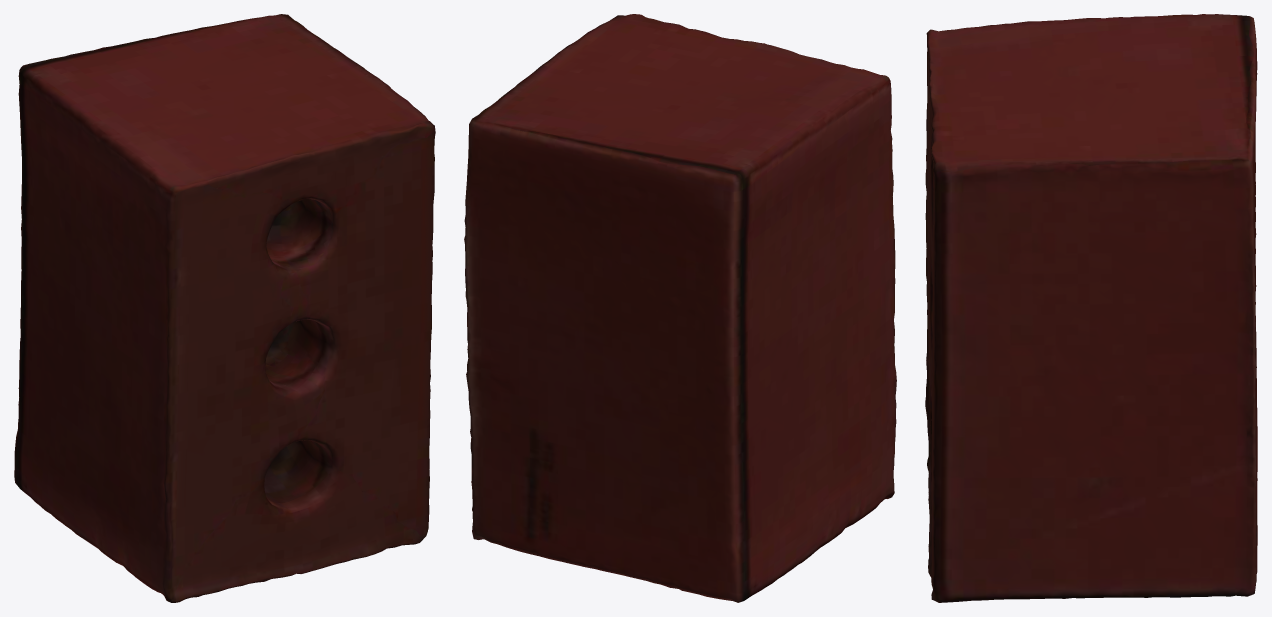
File: ddg-ycb_061_foam_brick.glb
The picture shows the model from 3 angles, left to right: view 1: azimuth 30°, elevation 25°; view 2: azimuth 150°, elevation 25°; view 3: azimuth 270°, elevation 25°; orthographic projection. The views are drawn at different scales.
Parts seen in each view (by area): view 1: textured(Clone); view 2: textured(Clone); view 3: textured(Clone).
Part boxes in pixels (x1,y1,x2,y2): textured(Clone): [14, 14, 435, 602]; textured(Clone): [464, 14, 896, 602]; textured(Clone): [925, 14, 1257, 602].
Size of the model in its own units: 0.9868 by 1.46 by 0.9611.
1 material, 1 textured.
